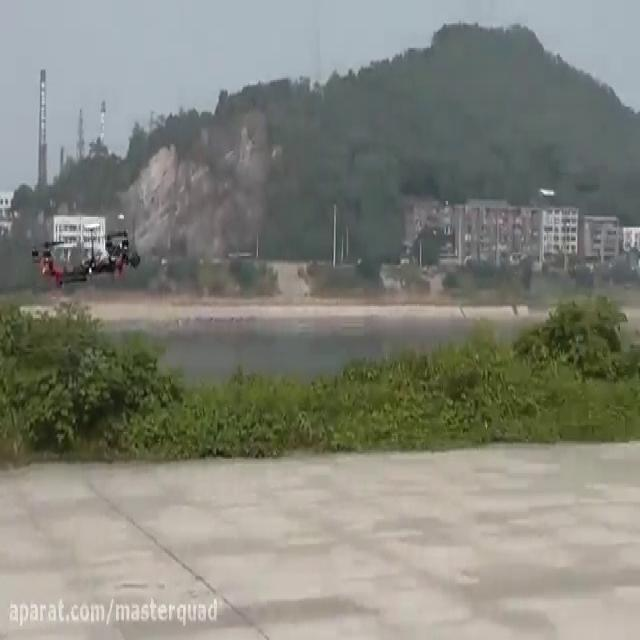drone: (26, 224, 141, 293)
